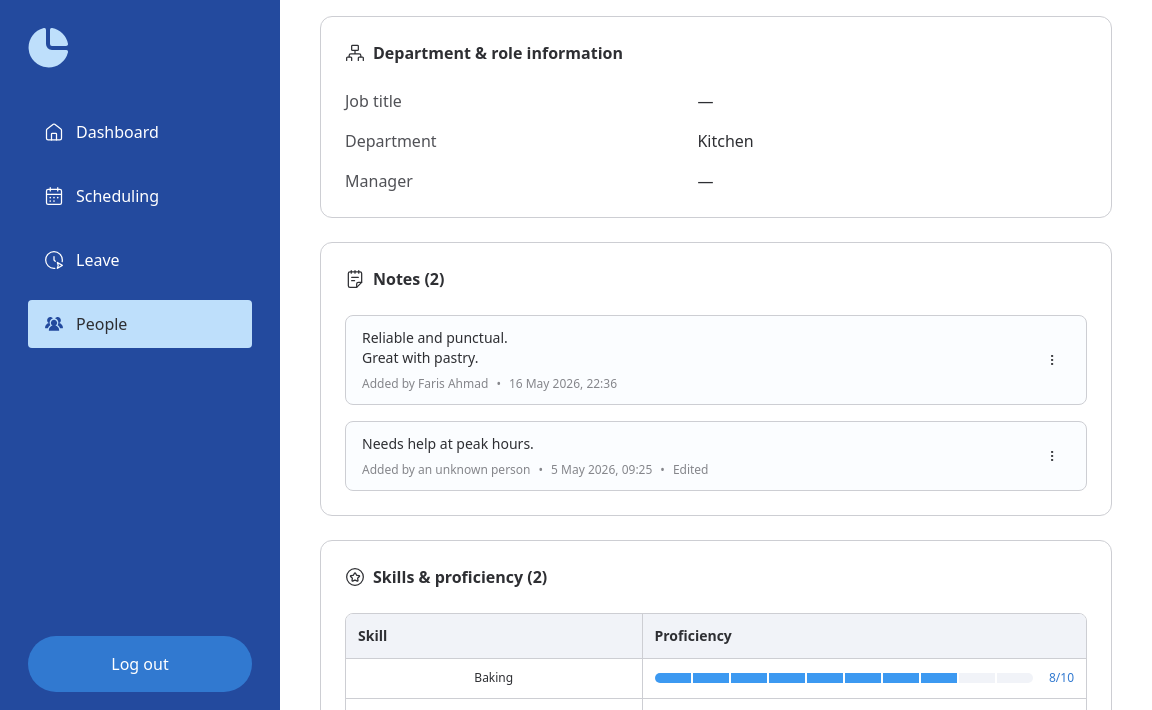
Test: A person's notes › offers only the actions whose key is held at the department
The width and height of the screenshot is (1152, 710).
(page scrolled)
Click the button named "More actions for the note from 16 May 2026, 22:36": point(1052, 360) [1034,342,1070,378]
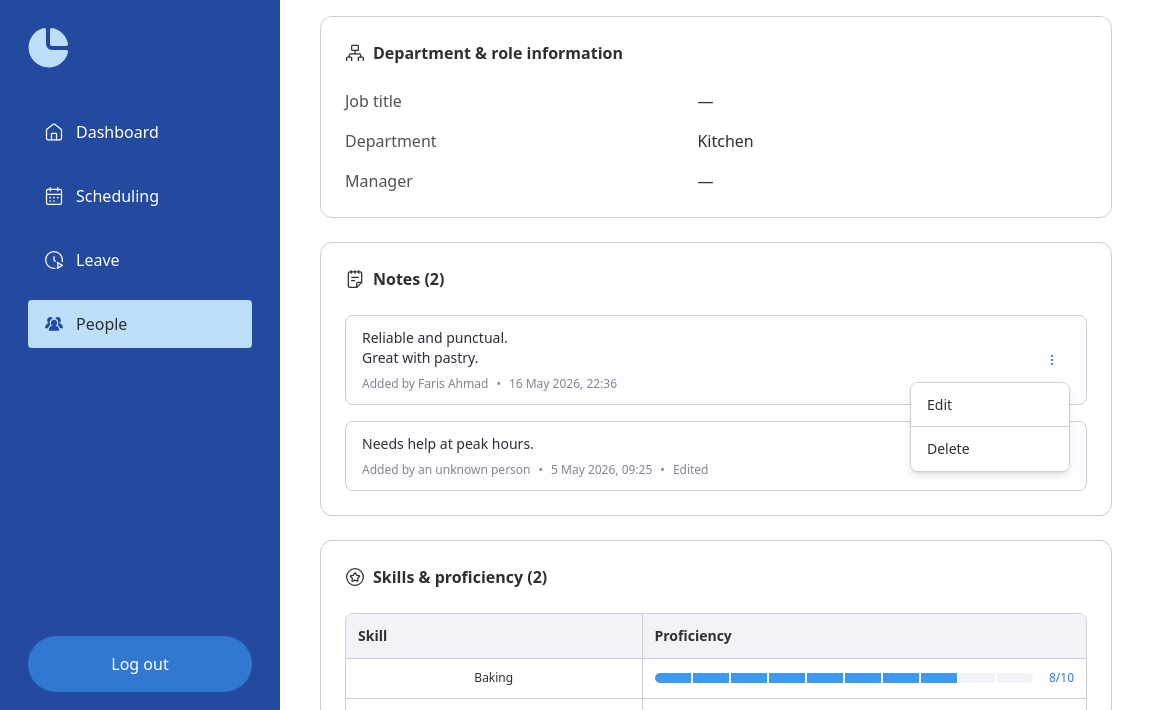
Result: the menu items read "Edit", "Delete", in this order at [911,383,1069,427]; [911,427,1069,471]
